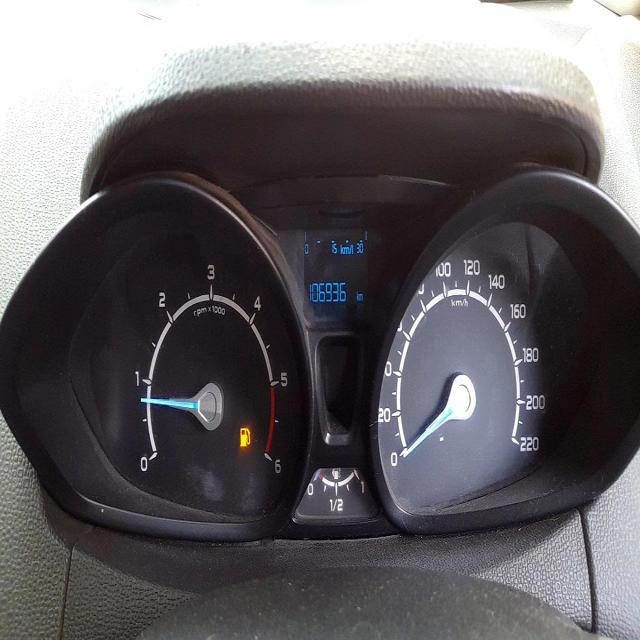odometer: (307, 279, 349, 310)
